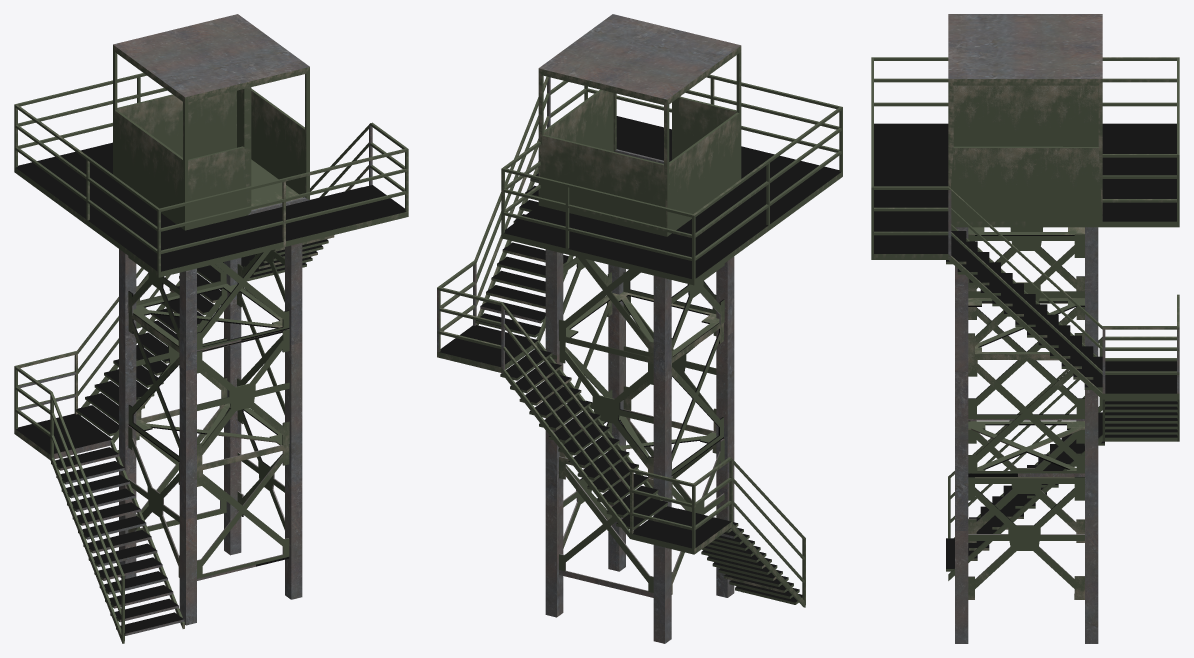
Rendered from watchtower_-_11mb.glb.
The picture shows the model from 3 angles, left to right: view 1: azimuth 30°, elevation 25°; view 2: azimuth 150°, elevation 25°; view 3: azimuth 270°, elevation 25°; orthographic projection. The views are drawn at different scales.
Visible parts, largest first — view 1: scene__0__0, Null, Cube_2; view 2: scene__0__0, Cube_2, Null; view 3: scene__0__0, Null, Cube_2.
Part boxes in pixels (x1=…): scene__0__0: x1=14, y1=14, x2=408, y2=643; Null: x1=128, y1=249, x2=289, y2=580; Cube_2: x1=119, y1=243, x2=302, y2=625; scene__0__0: x1=437, y1=14, x2=842, y2=607; Cube_2: x1=545, y1=249, x2=734, y2=643; Null: x1=559, y1=256, x2=724, y2=597; scene__0__0: x1=871, y1=14, x2=1179, y2=580; Null: x1=968, y1=227, x2=1084, y2=599; Cube_2: x1=955, y1=227, x2=1098, y2=643.
Size of the model in its own units: 6.83 by 13.86 by 6.83.
1 material, 1 textured.
